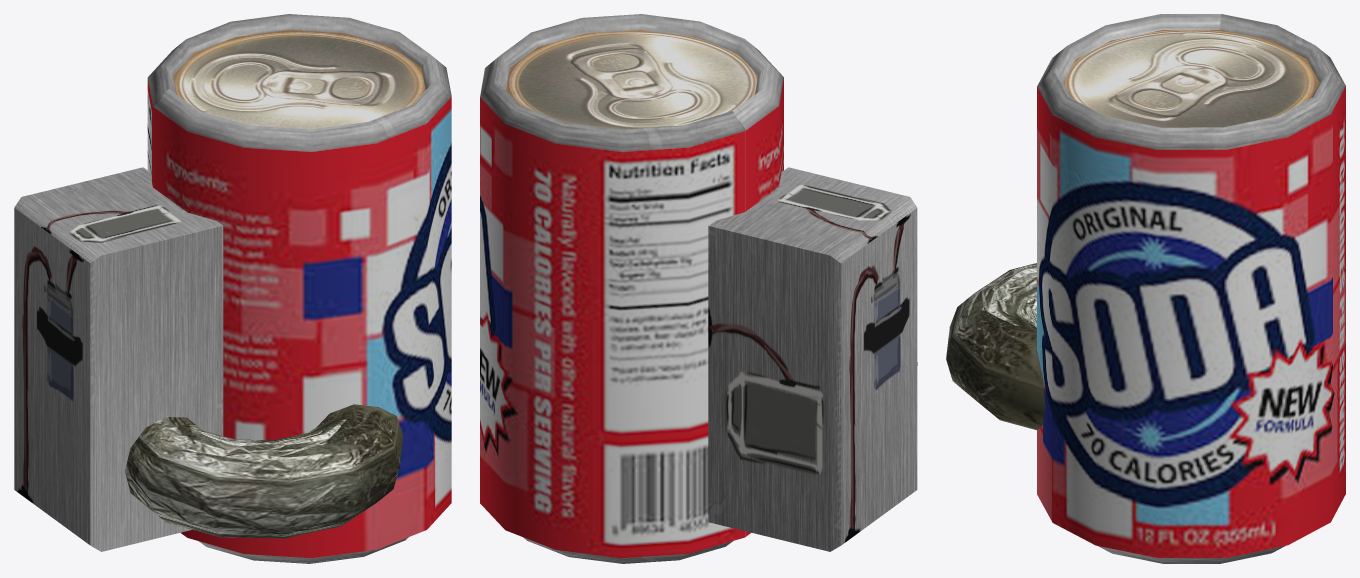
Rendered from stinkBomb.fbx.
3 views of the same model, side by side, from view 1: azimuth 30°, elevation 25°; view 2: azimuth 150°, elevation 25°; view 3: azimuth 270°, elevation 25° (orthographic).
Visible parts, largest first — view 1: pCylinder2; view 2: pCylinder2; view 3: pCylinder2.
Boxes of the visible parts, x1,y1,x2,y2 form: pCylinder2: (14,14,451,563); pCylinder2: (480,14,917,563); pCylinder2: (946,14,1345,563).
Bounding box in the file's own units: 15.96 × 17.74 × 14.59.
1 material, 1 textured.
